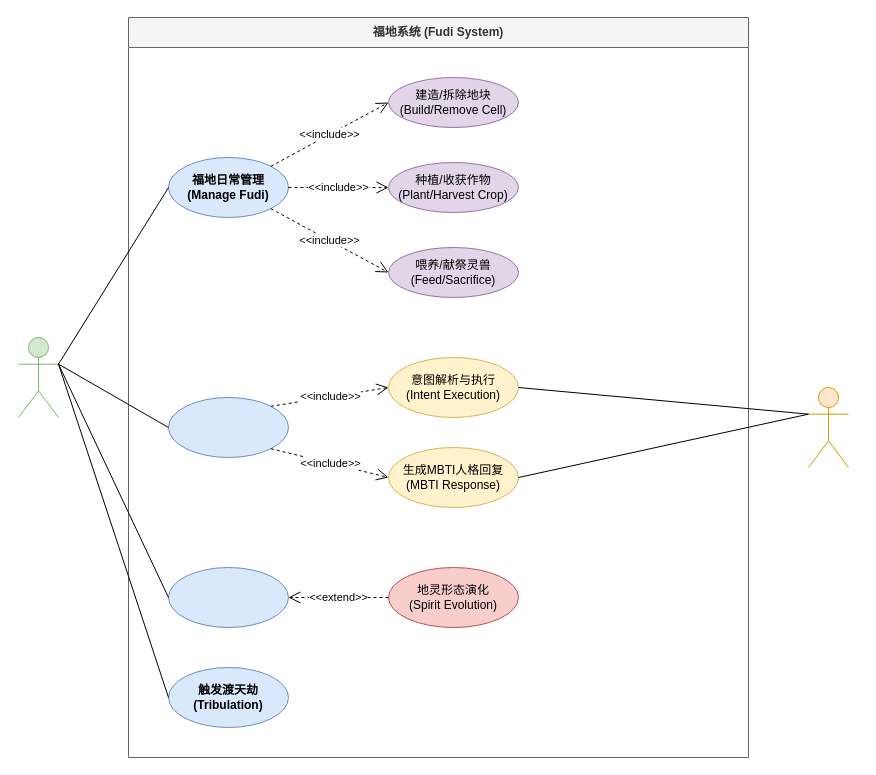
Image size: 876x775. Some labels were removed from this diagram. Here are the shapes that lost their labels. From the top down, the centre of each, then its label:
At (38,377): "玩家 (Player)".
At (228,427): "与地灵对话 (Spirit Chat)".
At (828,427): "大语言模型 (LLM Actor)".
At (228,597): "升级聚灵核心 (Upgrade Core)".
